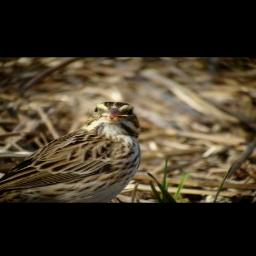Sparrow: (0, 100, 145, 202)
